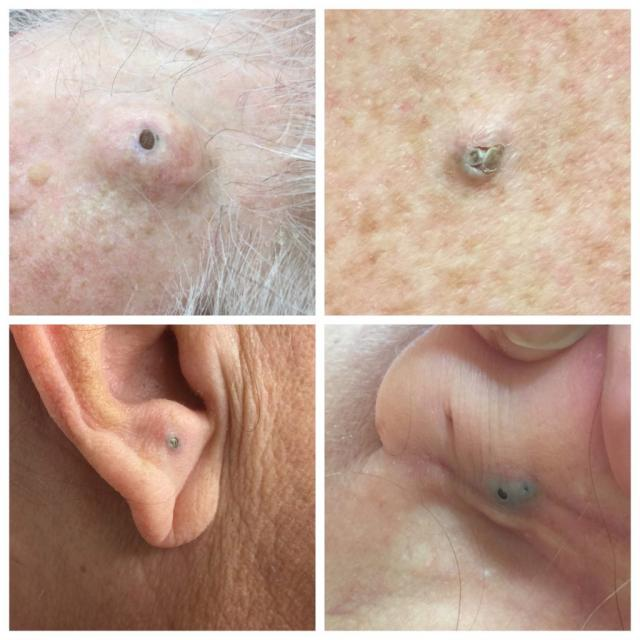dark spot: (460, 141, 514, 180), (118, 116, 165, 159), (488, 476, 522, 514), (162, 428, 188, 464)
